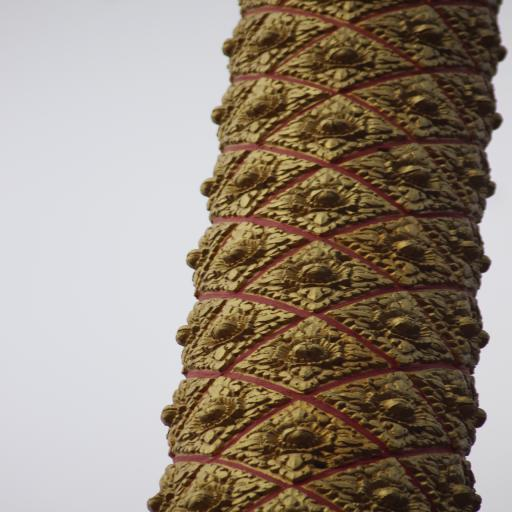hoa: (250, 322, 382, 387), (164, 377, 279, 447), (170, 303, 297, 366), (242, 404, 344, 476), (356, 218, 453, 285), (267, 248, 385, 303), (343, 377, 425, 452), (377, 73, 468, 140), (353, 291, 438, 360), (228, 11, 328, 68), (371, 145, 456, 212), (188, 224, 274, 290), (376, 5, 462, 70), (294, 90, 371, 161), (160, 463, 270, 512), (274, 171, 370, 227), (328, 456, 422, 512), (216, 74, 290, 145), (303, 26, 384, 88), (421, 368, 490, 440), (211, 154, 296, 211), (424, 291, 489, 359), (420, 446, 482, 508)
